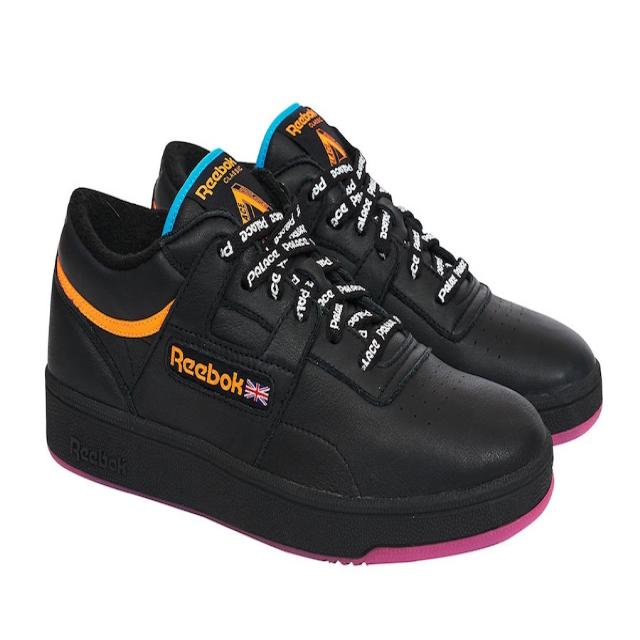shoe: (44, 152, 555, 568), (285, 95, 614, 379)
